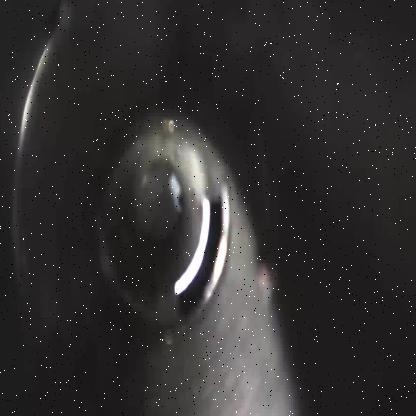Crack2: (174, 185, 228, 321)
